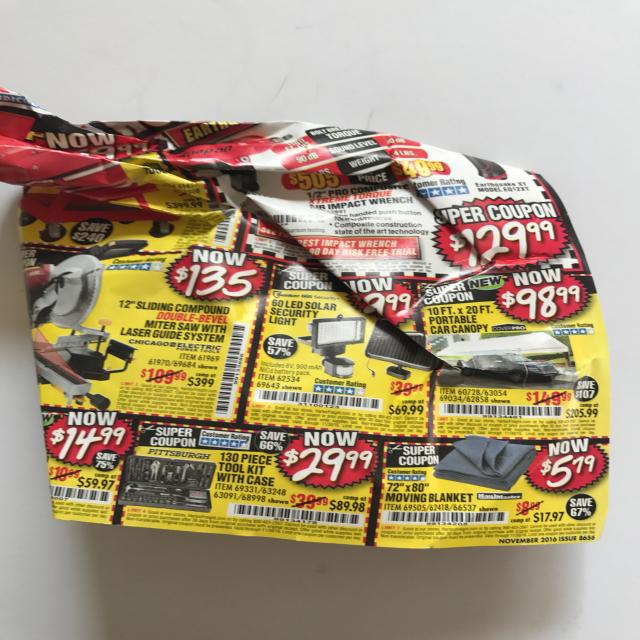Paper: (0, 76, 640, 572)
